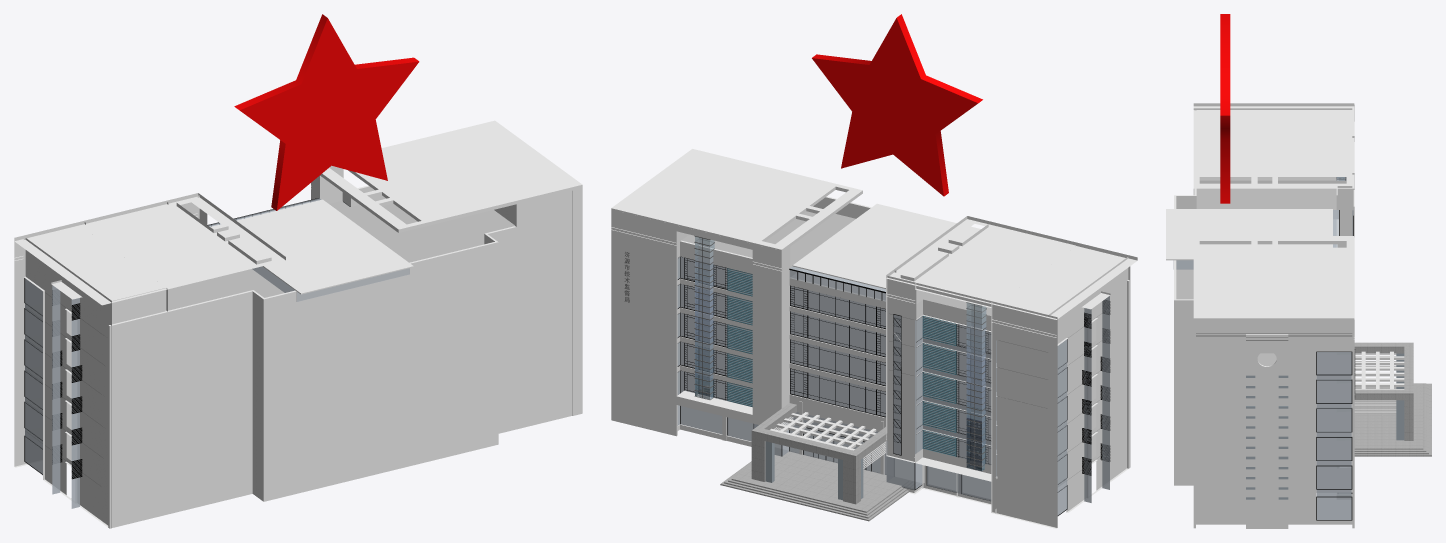
The model's file is fangzi.gltf.
3 views of the same model, side by side, from view 1: azimuth 30°, elevation 25°; view 2: azimuth 150°, elevation 25°; view 3: azimuth 270°, elevation 25° (orthographic). The views are drawn at different scales.
Visible parts, largest first — view 1: 空白.2; view 2: 空白.2; view 3: 空白.2.
Part boxes in pixels (x1,y1,x2,y2): 空白.2: (14, 14, 582, 528); 空白.2: (611, 14, 1137, 528); 空白.2: (1166, 14, 1431, 528).
Size of the model in its own units: 1019 by 895 by 531.
13 materials, 2 textured.
